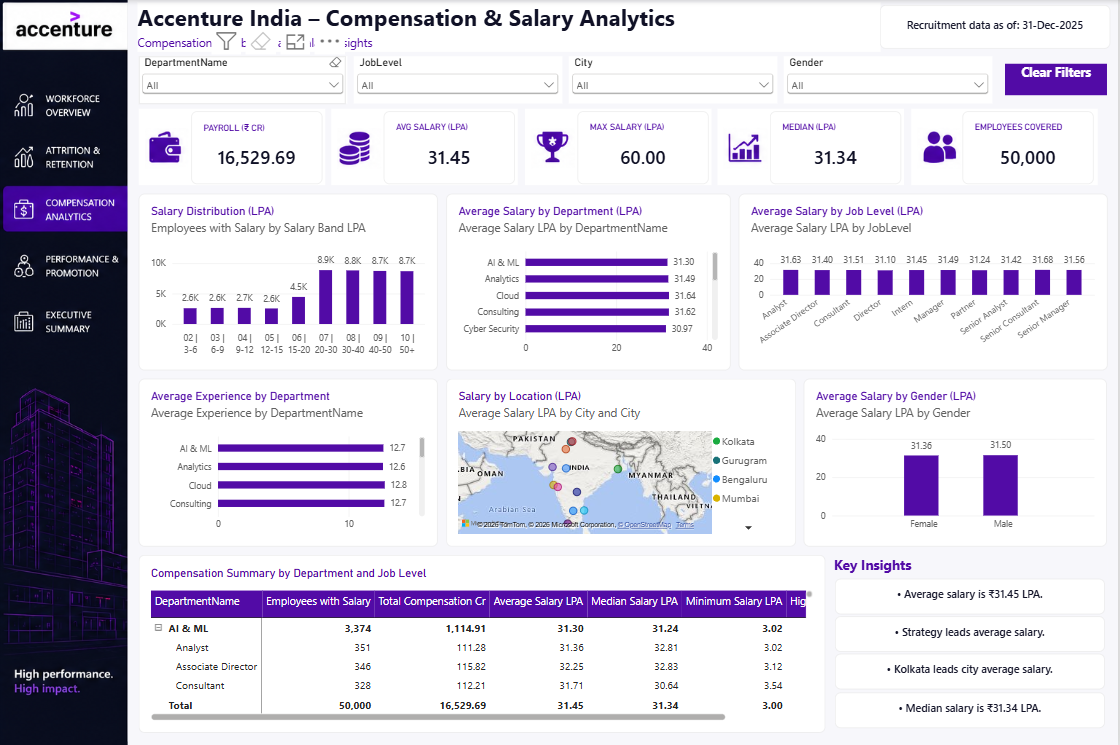

This screenshot's page, from the dashboard's own definition file:
{"tool":"powerbi","page":{"name":"Compensation Analytics","canvas":[1536,1024],"ordinal":2},"visuals":[{"type":"textbox","box":[175,0,1361,1024],"z":1},{"type":"image","box":[0,0,175,1024],"z":2},{"type":"textbox","box":[188,4,1020,43],"z":8},{"type":"textbox","box":[188,46,1020,25],"z":9},{"type":"card","fields":{"Values":["DimEmployee.Reporting Date Label"]},"box":[1208,7,316,60],"z":10},{"type":"slicer","title":"Department","fields":{"Values":["DimDepartment.DepartmentName"]},"box":[190,77,286,65],"z":11},{"type":"slicer","title":"Job Level","fields":{"Values":["DimJobLevel.JobLevel"]},"box":[485,77,286,65],"z":12},{"type":"slicer","title":"Location","fields":{"Values":["DimLocation.City"]},"box":[780,77,286,65],"z":13},{"type":"slicer","title":"Gender","fields":{"Values":["DimEmployee.Gender"]},"box":[1075,77,286,65],"z":14},{"type":"textbox","box":[1380,87,140,43],"z":15},{"type":"textbox","box":[190,150,256,105],"z":17},{"type":"image","box":[199,173,60,60],"z":18},{"type":"card","title":"PAYROLL (₹ CR)","fields":{"Values":["DimEmployee.Total Compensation Cr"]},"box":[262,152,180,100],"z":19},{"type":"textbox","box":[455,150,256,105],"z":20},{"type":"image","box":[464,173,60,60],"z":21},{"type":"card","title":"AVG SALARY (LPA)","fields":{"Values":["DimEmployee.Average Salary LPA"]},"box":[527,152,180,100],"z":22},{"type":"textbox","box":[720,150,256,105],"z":23},{"type":"image","box":[729,173,60,60],"z":24},{"type":"card","title":"MAX SALARY (LPA)","fields":{"Values":["DimEmployee.Highest Salary LPA"]},"box":[792,152,180,100],"z":25},{"type":"textbox","box":[985,150,256,105],"z":26},{"type":"image","box":[994,173,60,60],"z":27},{"type":"card","title":"MEDIAN (LPA)","fields":{"Values":["DimEmployee.Median Salary LPA"]},"box":[1057,152,180,100],"z":28},{"type":"textbox","box":[1250,150,256,105],"z":29},{"type":"image","box":[1259,173,60,60],"z":30},{"type":"card","title":"EMPLOYEES COVERED","fields":{"Values":["DimEmployee.Employees with Salary"]},"box":[1322,152,180,100],"z":31},{"type":"clusteredColumnChart","title":"Salary Distribution (LPA)","fields":{"Category":["FactWorkforce.Salary Band LPA"],"Y":["DimEmployee.Employees with Salary"]},"box":[190,266,410,242],"z":32},{"type":"clusteredBarChart","title":"Average Salary by Department (LPA)","fields":{"Category":["DimDepartment.DepartmentName"],"Y":["DimEmployee.Average Salary LPA"]},"box":[612,266,390,242],"z":33},{"type":"clusteredColumnChart","title":"Average Salary by Job Level (LPA)","fields":{"Category":["DimJobLevel.JobLevel"],"Y":["DimEmployee.Average Salary LPA"]},"box":[1014,266,506,242],"z":34},{"type":"clusteredBarChart","title":"Average Experience by Department","fields":{"Category":["DimDepartment.DepartmentName"],"Y":["DimEmployee.Average Experience"]},"box":[190,520,410,230],"z":35},{"type":"map","title":"Salary by Location (LPA)","fields":{"Category":["DimLocation.City"],"Size":["DimEmployee.Average Salary LPA"],"Series":["DimLocation.City"]},"box":[612,520,480,230],"z":36},{"type":"clusteredColumnChart","title":"Average Salary by Gender (LPA)","fields":{"Category":["DimEmployee.Gender"],"Y":["DimEmployee.Average Salary LPA"]},"box":[1104,520,416,230],"z":37},{"type":"pivotTable","title":"Compensation Summary by Department and Job Level","fields":{"Rows":["DimDepartment.DepartmentName","DimJobLevel.JobLevel"],"Values":["DimEmployee.Employees with Salary","DimEmployee.Total Compensation Cr","DimEmployee.Average Salary LPA","DimEmployee.Median Salary LPA","DimEmployee.Minimum Salary LPA","DimEmployee.Highest Salary LPA"]},"box":[190,762,942,244],"z":38},{"type":"textbox","box":[1144,762,376,30],"z":39},{"type":"card","fields":{"Values":["DimEmployee.C Insight 1"]},"box":[1147,794,370,49],"z":40},{"type":"card","fields":{"Values":["DimEmployee.C Insight 2"]},"box":[1147,846,370,49],"z":41},{"type":"card","fields":{"Values":["DimEmployee.C Insight 3"]},"box":[1147,898,370,49],"z":42},{"type":"card","fields":{"Values":["DimEmployee.C Insight 4"]},"box":[1147,950,370,49],"z":43},{"type":"actionButton","box":[4,115,170,64],"z":902},{"type":"actionButton","box":[4,190,170,64],"z":903},{"type":"actionButton","box":[4,265,170,64],"z":904},{"type":"actionButton","box":[4,340,170,64],"z":905},{"type":"actionButton","box":[4,415,170,64],"z":906},{"type":"actionButton","box":[1380,87,140,43],"z":915}]}

Visuals, with their boxes on the page's 1536x1024 design canvas (x1, y1, x2, y2). These are canvas units, not pixel positions in the 1120x745 screenshot, which may show the page scaled, cropped or inside an application window:
textbox: detection(175, 0, 1536, 1024)
image: detection(0, 0, 175, 1024)
textbox: detection(188, 4, 1208, 47)
textbox: detection(188, 46, 1208, 71)
card - DimEmployee.Reporting Date Label: detection(1208, 7, 1524, 67)
"Department" slicer: detection(190, 77, 476, 142)
"Job Level" slicer: detection(485, 77, 771, 142)
"Location" slicer: detection(780, 77, 1066, 142)
"Gender" slicer: detection(1075, 77, 1361, 142)
textbox: detection(1380, 87, 1520, 130)
textbox: detection(190, 150, 446, 255)
image: detection(199, 173, 259, 233)
"PAYROLL (₹ CR)" card: detection(262, 152, 442, 252)
textbox: detection(455, 150, 711, 255)
image: detection(464, 173, 524, 233)
"AVG SALARY (LPA)" card: detection(527, 152, 707, 252)
textbox: detection(720, 150, 976, 255)
image: detection(729, 173, 789, 233)
"MAX SALARY (LPA)" card: detection(792, 152, 972, 252)
textbox: detection(985, 150, 1241, 255)
image: detection(994, 173, 1054, 233)
"MEDIAN (LPA)" card: detection(1057, 152, 1237, 252)
textbox: detection(1250, 150, 1506, 255)
image: detection(1259, 173, 1319, 233)
"EMPLOYEES COVERED" card: detection(1322, 152, 1502, 252)
"Salary Distribution (LPA)" clusteredColumnChart: detection(190, 266, 600, 508)
"Average Salary by Department (LPA)" clusteredBarChart: detection(612, 266, 1002, 508)
"Average Salary by Job Level (LPA)" clusteredColumnChart: detection(1014, 266, 1520, 508)
"Average Experience by Department" clusteredBarChart: detection(190, 520, 600, 750)
"Salary by Location (LPA)" map: detection(612, 520, 1092, 750)
"Average Salary by Gender (LPA)" clusteredColumnChart: detection(1104, 520, 1520, 750)
"Compensation Summary by Department and Job Level" pivotTable: detection(190, 762, 1132, 1006)
textbox: detection(1144, 762, 1520, 792)
card - DimEmployee.C Insight 1: detection(1147, 794, 1517, 843)
card - DimEmployee.C Insight 2: detection(1147, 846, 1517, 895)
card - DimEmployee.C Insight 3: detection(1147, 898, 1517, 947)
card - DimEmployee.C Insight 4: detection(1147, 950, 1517, 999)
actionButton: detection(4, 115, 174, 179)
actionButton: detection(4, 190, 174, 254)
actionButton: detection(4, 265, 174, 329)
actionButton: detection(4, 340, 174, 404)
actionButton: detection(4, 415, 174, 479)
actionButton: detection(1380, 87, 1520, 130)
